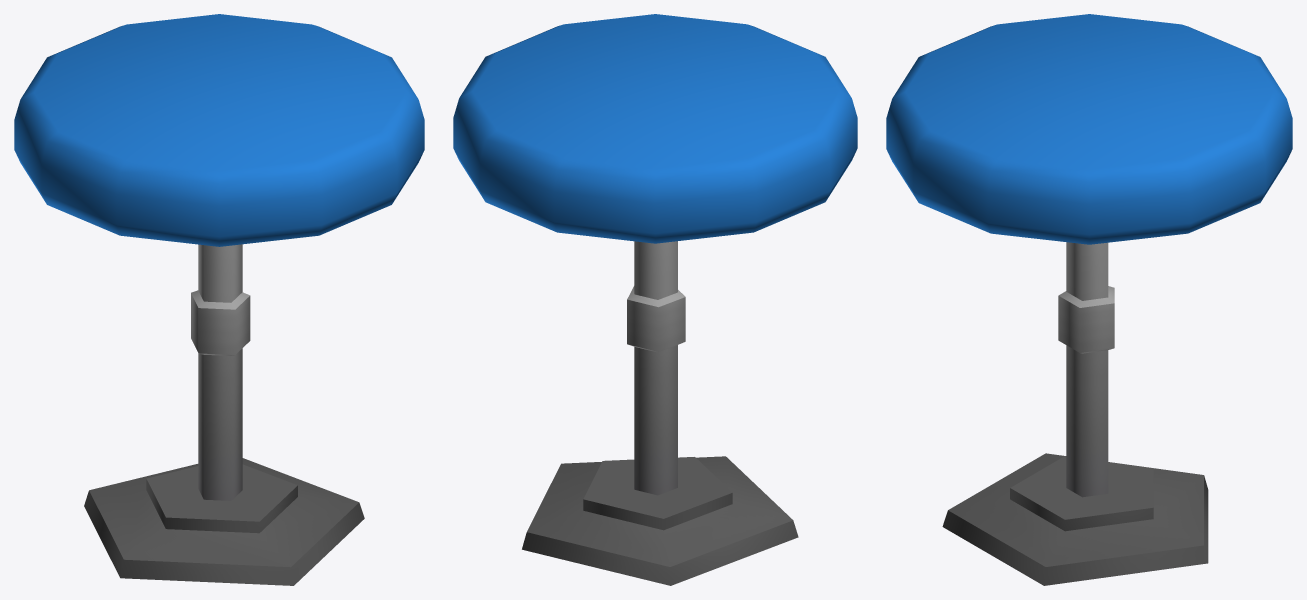
Rendered from Chair_3_B.fbx.
3 renders of one model, left to right at view 1: azimuth 30°, elevation 25°; view 2: azimuth 150°, elevation 25°; view 3: azimuth 270°, elevation 25°, orthographic.
Visible parts, largest first — view 1: Chair_3_B; view 2: Chair_3_B; view 3: Chair_3_B.
Part boxes in pixels (x1,y1,x2,y2): Chair_3_B: (14, 14, 424, 585); Chair_3_B: (453, 14, 857, 585); Chair_3_B: (886, 14, 1292, 585).
Bounding box in the file's own units: 50.02 × 59.1 × 50.04.
